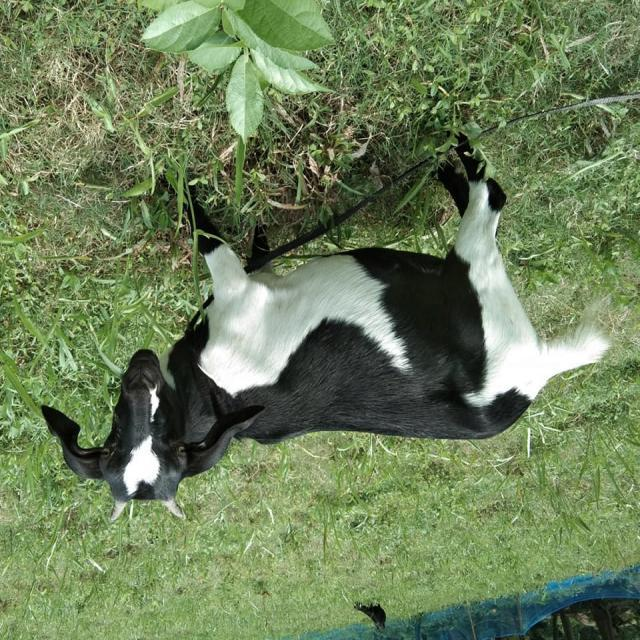Goat: (40, 126, 613, 523)
